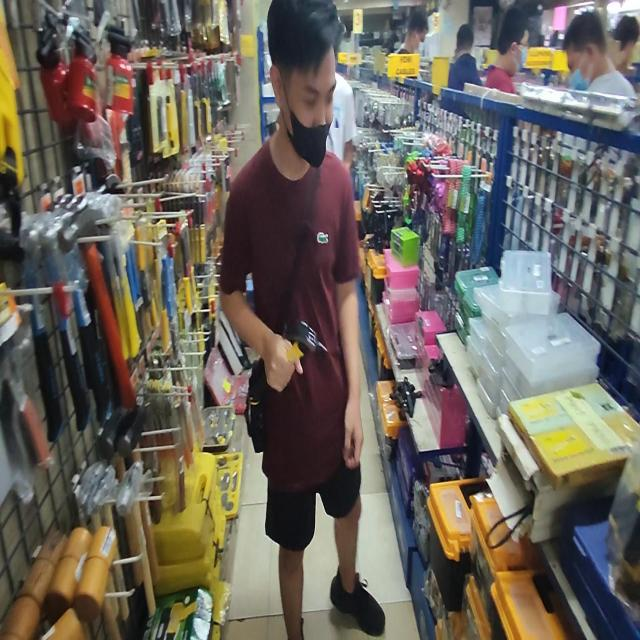hammer: (249, 317, 329, 407)
